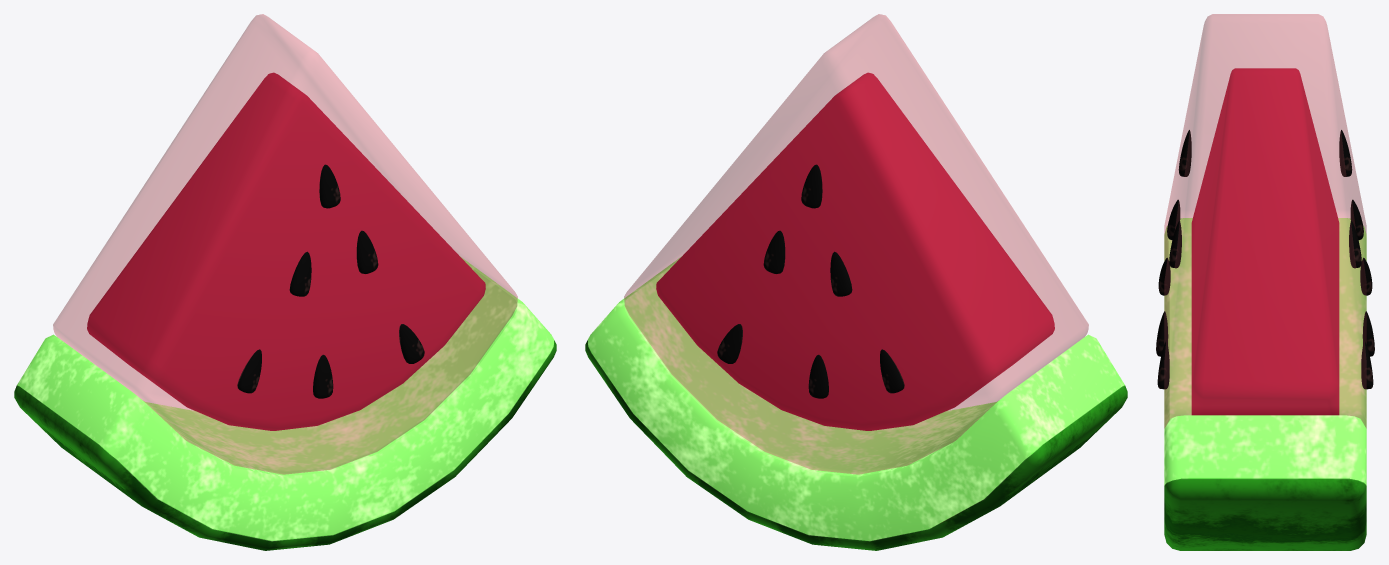
3 renders of one model, left to right at view 1: azimuth 30°, elevation 25°; view 2: azimuth 150°, elevation 25°; view 3: azimuth 270°, elevation 25°, orthographic. The views are drawn at different scales.
Parts seen in each view (by area): view 1: WM, WM_jilly; view 2: WM, WM_jilly; view 3: WM, WM_jilly.
Boxes of the visible parts, x1=… form: WM: x1=14, y1=72, x2=556, y2=550; WM_jilly: x1=53, y1=14, x2=517, y2=474; WM: x1=585, y1=72, x2=1127, y2=550; WM_jilly: x1=624, y1=14, x2=1088, y2=474; WM: x1=1156, y1=68, x2=1374, y2=550; WM_jilly: x1=1164, y1=14, x2=1366, y2=427.
Size of the model in its own units: 1.24 by 1.25 by 0.4852.
5 materials, 5 textured.
